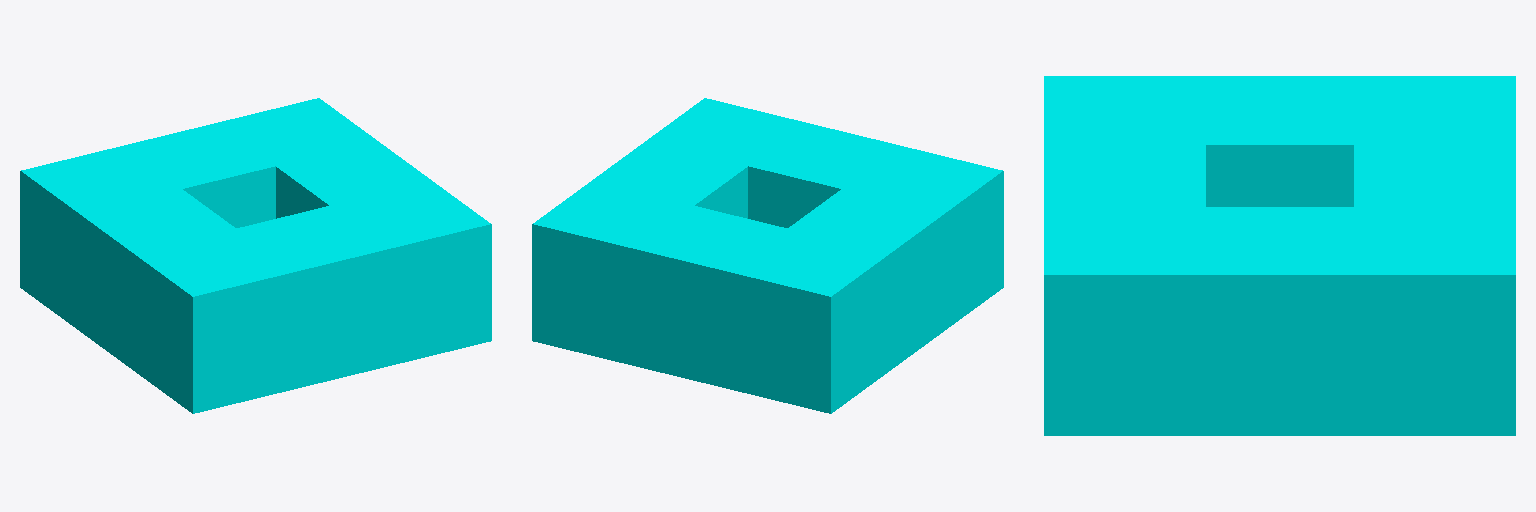
The robot description file, URDF, robot "1.25hole":
<?xml version="1.0" encoding="utf-8"?>
<!-- This URDF was automatically created by SolidWorks to URDF Exporter! Originally created by [author] ([email redacted]) 
     Commit Version: 1.5.1-0-g916b5db  Build Version: 1.5.7152.31018
     For more information, please see http://wiki.ros.org/sw_urdf_exporter -->
<robot
  name="1.25hole">
  <link
    name="1.25hole">
    <inertial>
      <origin
        xyz="7.7286E-18 3.55323755201581E-18 0.01905"
        rpy="0 0 0" />
      <mass
        value="0.35488" />
      <inertia
        ixx="0.00037802"
        ixy="5.0377E-20"
        ixz="2.1023E-21"
        iyy="0.00037802"
        iyz="1.80042873134604E-20"
        izz="0.00067017" />
    </inertial>
    <visual>
      <origin
        xyz="0 0 0"
        rpy="1.5707963267949 0 0" />
      <geometry>
        <mesh
          filename="package://1.25hole/meshes/1.25hole.STL" />
      </geometry>
      <material
        name="">
        <color
          rgba="0 1 1 1" />
        <texture
          filename="package://1.25hole/textures/" />
      </material>
    </visual>
    <collision>
      <origin
        xyz="0 0 0"
        rpy="1.5707963267949 0 0" />
      <geometry>
        <mesh
          filename="package://1.25hole/meshes/1.25hole.STL" />
      </geometry>
    </collision>
  </link>
</robot>

--- Render facts (derived) ---
3 views of the same robot in one strip: view 1: azimuth 30°, elevation 25°; view 2: azimuth 150°, elevation 25°; view 3: azimuth 270°, elevation 25° (orthographic).
Robot: 1.25hole — 1 links, 0 joints (none); root link 1.25hole; default pose: every joint at zero.
Visible links, largest first — view 1: 1.25hole; view 2: 1.25hole; view 3: 1.25hole.
Boxes of the visible links, x1,y1,x2,y2 form: 1.25hole: [20, 98, 491, 413]; 1.25hole: [532, 98, 1003, 413]; 1.25hole: [1044, 76, 1515, 435].
Bounding box of the posed robot: 0.1016 × 0.1016 × 0.0381 m (x, y, z).
Meshes: 1 distinct files referenced, 1 mesh visuals loaded (1 binary STL).
